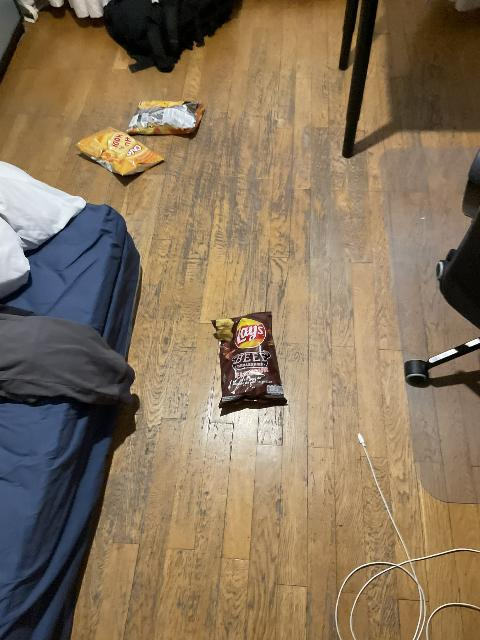Chio Cascaval 125g: (126, 100, 203, 136)
Chio Hula Hoops Cheese 70g: (75, 126, 166, 175)
Lays Beef Grilled Ribs 125g: (213, 312, 289, 410)
